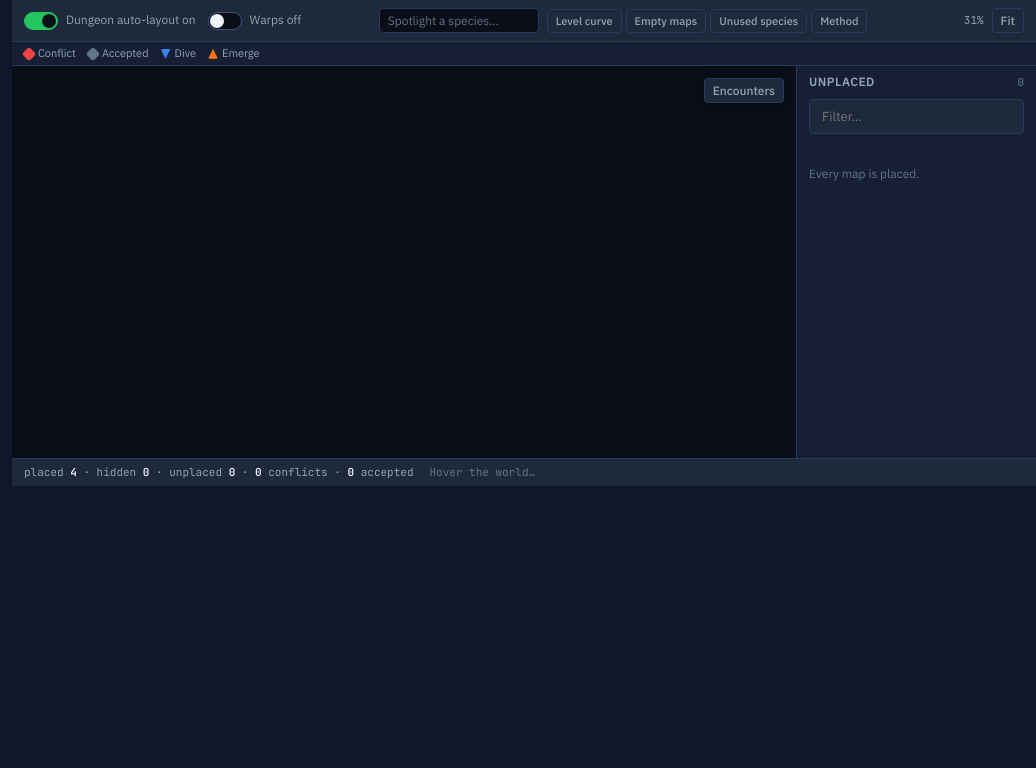
Test: P12-4d: a rejected warp request shows the warp alert
Click the switch named "Warps": (225, 20) 208,12 -> 242,30
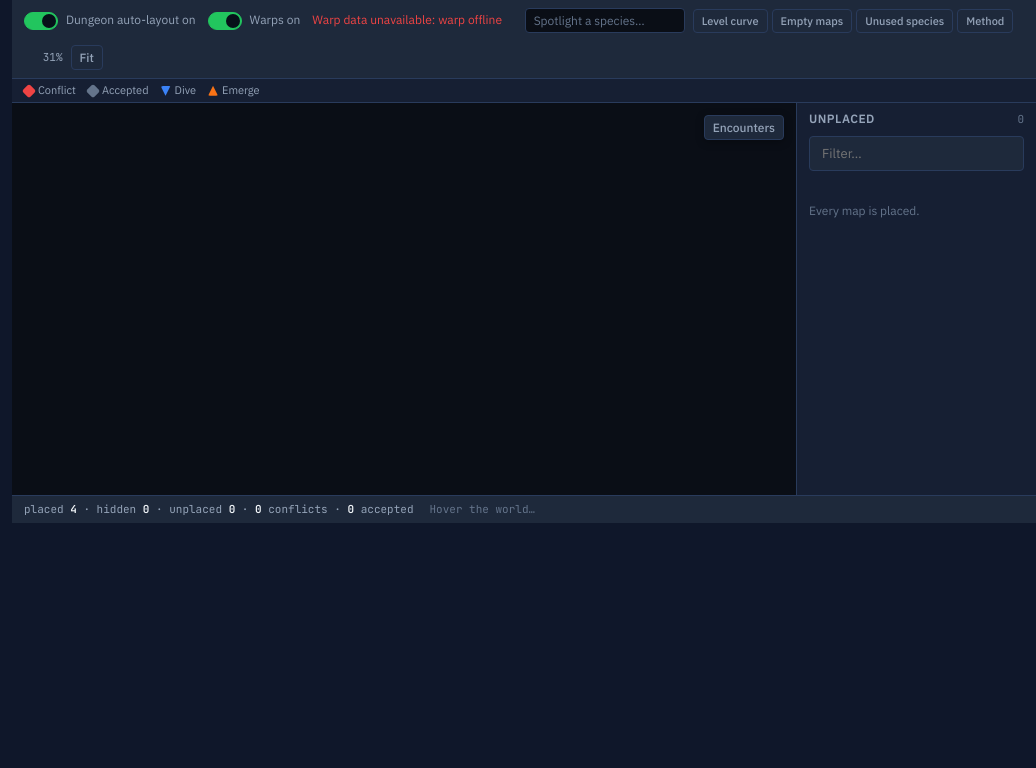
expect the message reads "Warp data unavailable: warp offline": met, box 312,12 -> 502,27
